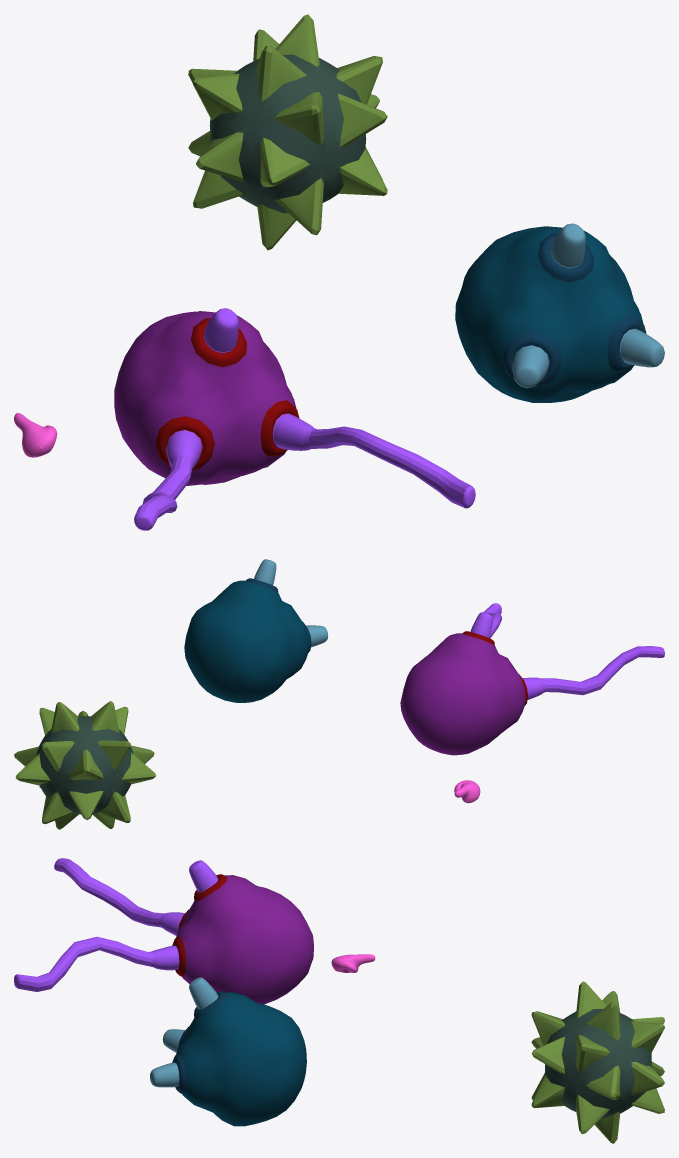
The model's file is Chars.fbx.
3 views of the same model, one above another, from view 1: azimuth 30°, elevation 25°; view 2: azimuth 150°, elevation 25°; view 3: azimuth 270°, elevation 25° (orthographic). The views are drawn at different scales.
Parts seen in each view (by area): view 1: Linfo_1, Gripe_1, Linfo_2, Manito1; view 2: Linfo_1, Linfo_2, Gripe_1, Manito1; view 3: Linfo_1, Linfo_2, Gripe_1, Manito1.
Part boxes in pixels (left/top/right/bottom): Linfo_1: left=114, top=308, right=475, bottom=530; Gripe_1: left=188, top=14, right=387, bottom=250; Linfo_2: left=455, top=223, right=664, bottom=402; Manito1: left=14, top=413, right=57, bottom=457; Linfo_1: left=400, top=603, right=664, bottom=755; Linfo_2: left=184, top=559, right=328, bottom=702; Gripe_1: left=14, top=701, right=155, bottom=829; Manito1: left=454, top=780, right=480, bottom=803; Linfo_1: left=14, top=858, right=313, bottom=1004; Linfo_2: left=150, top=977, right=306, bottom=1126; Gripe_1: left=531, top=981, right=664, bottom=1143; Manito1: left=331, top=954, right=375, bottom=972.
Size of the model in its own units: 8.64 by 2.84 by 10.94.
